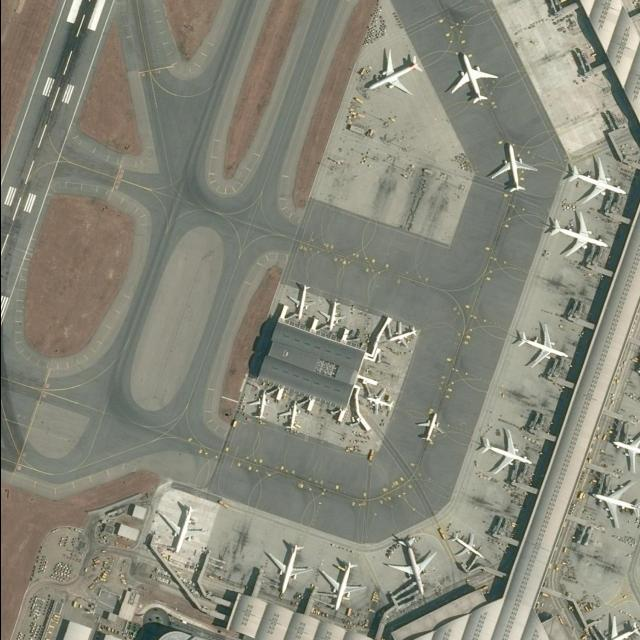Aircraft: (561, 155, 627, 205), (543, 209, 608, 259), (444, 49, 498, 107), (362, 46, 422, 96), (484, 138, 535, 194), (152, 500, 204, 553), (386, 537, 434, 594), (511, 322, 569, 369), (476, 427, 532, 474), (589, 478, 640, 529), (315, 557, 364, 609), (259, 538, 307, 589), (609, 427, 640, 474), (282, 282, 314, 322), (448, 531, 484, 563), (597, 613, 639, 640), (412, 410, 444, 445), (383, 320, 418, 348), (243, 387, 271, 421), (318, 299, 344, 333), (276, 400, 304, 431), (363, 388, 393, 416)
